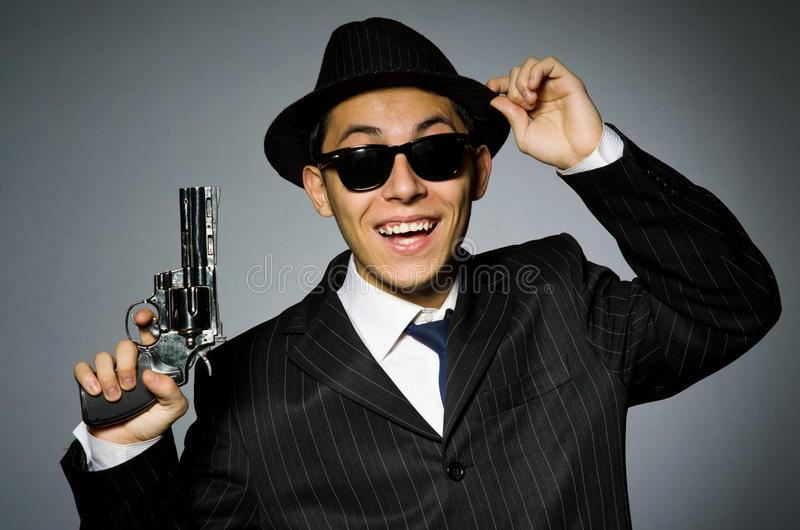criminal: (59, 14, 782, 530)
weapon: (74, 185, 225, 434)
